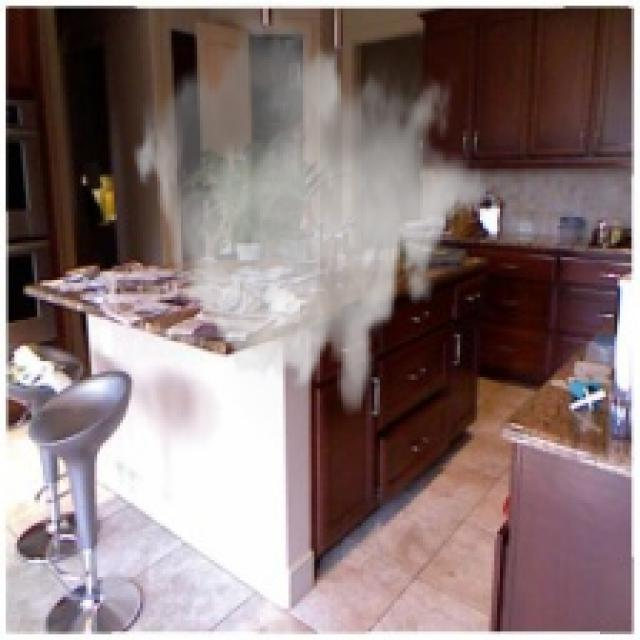Smoke: (132, 3, 488, 420)
